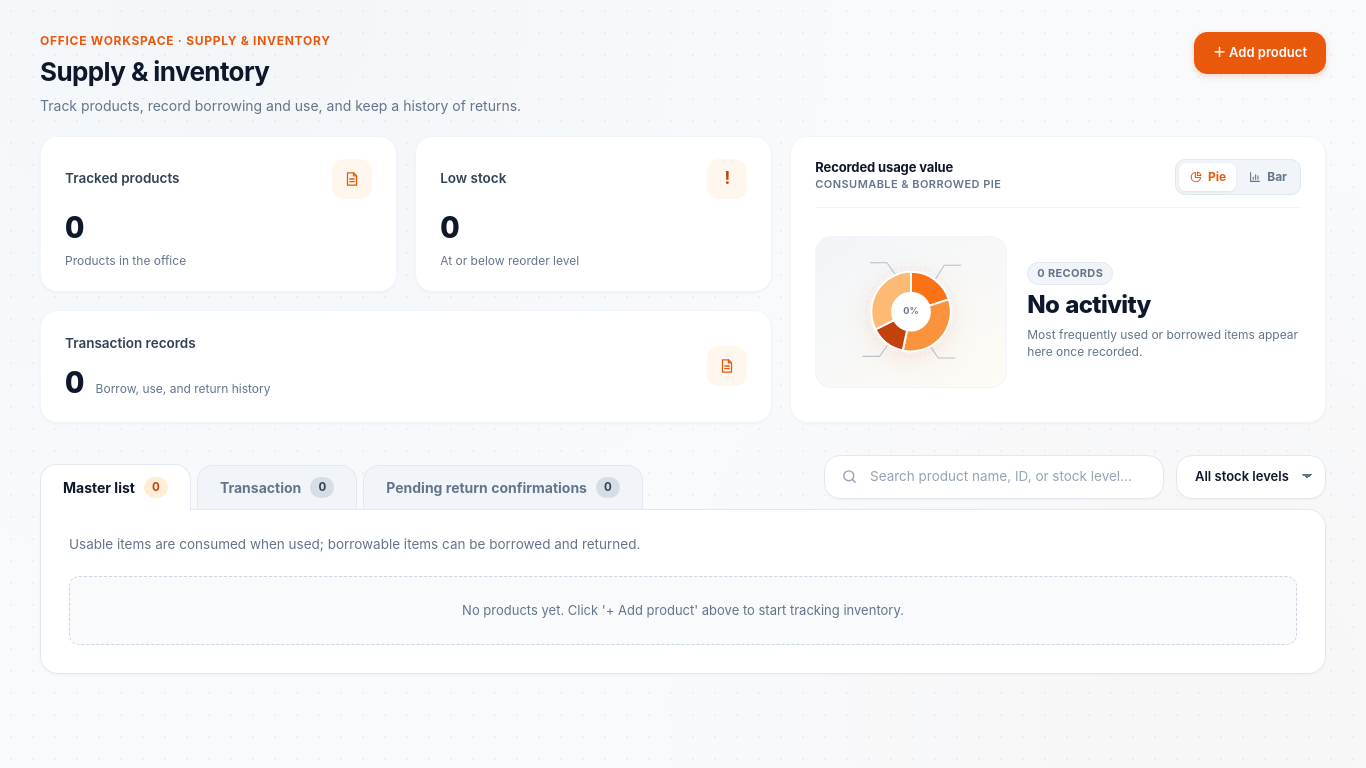
it: saves newly added masterlist items to Supabase
Click the button "＋ Add product" at (1260, 53), box top-left (1194, 32), bottom-right (1326, 74)
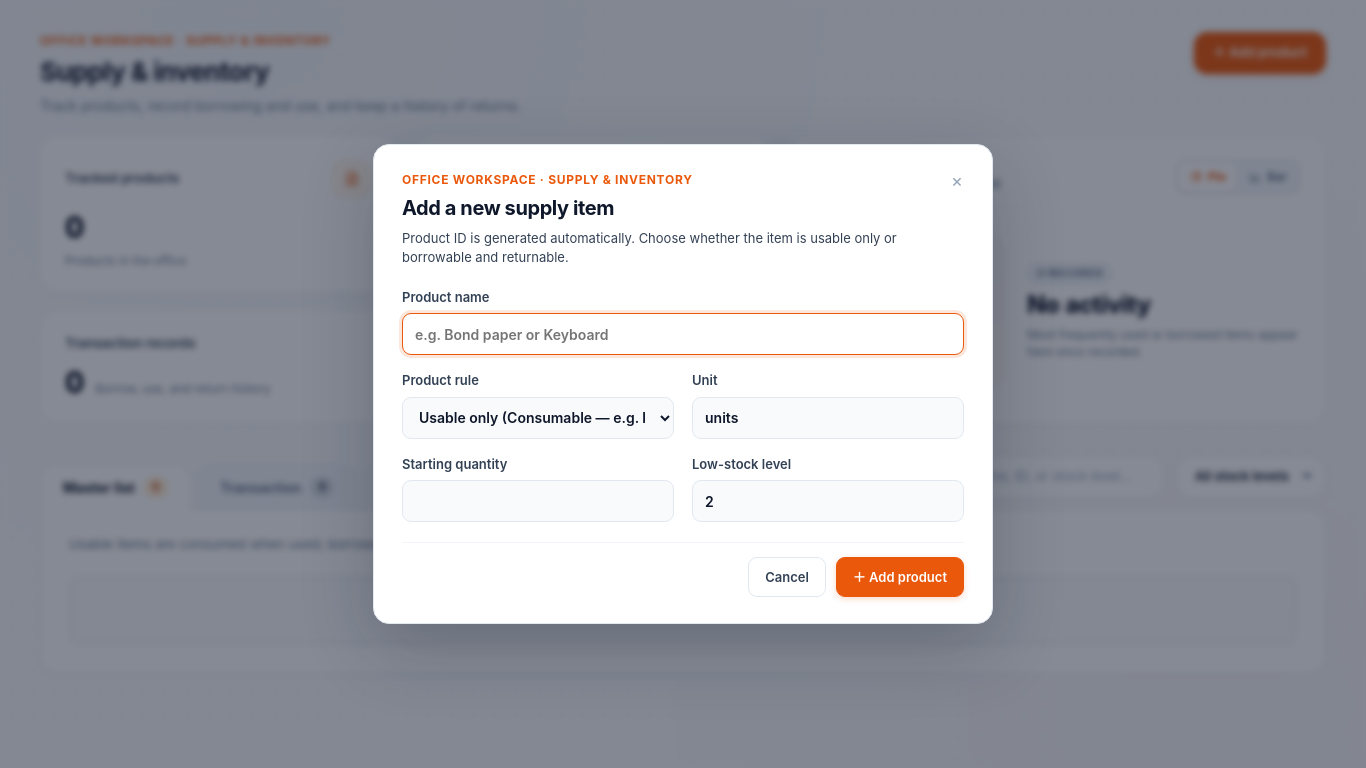
Type "Stapler" into the field labelled "Product name" at (683, 334), box top-left (402, 313), bottom-right (964, 355)
Select "Borrowable & returnable (Equipment — e.g. keyboard)" in the dropdown labelled "Product rule" at (538, 418), box top-left (402, 397), bottom-right (674, 439)
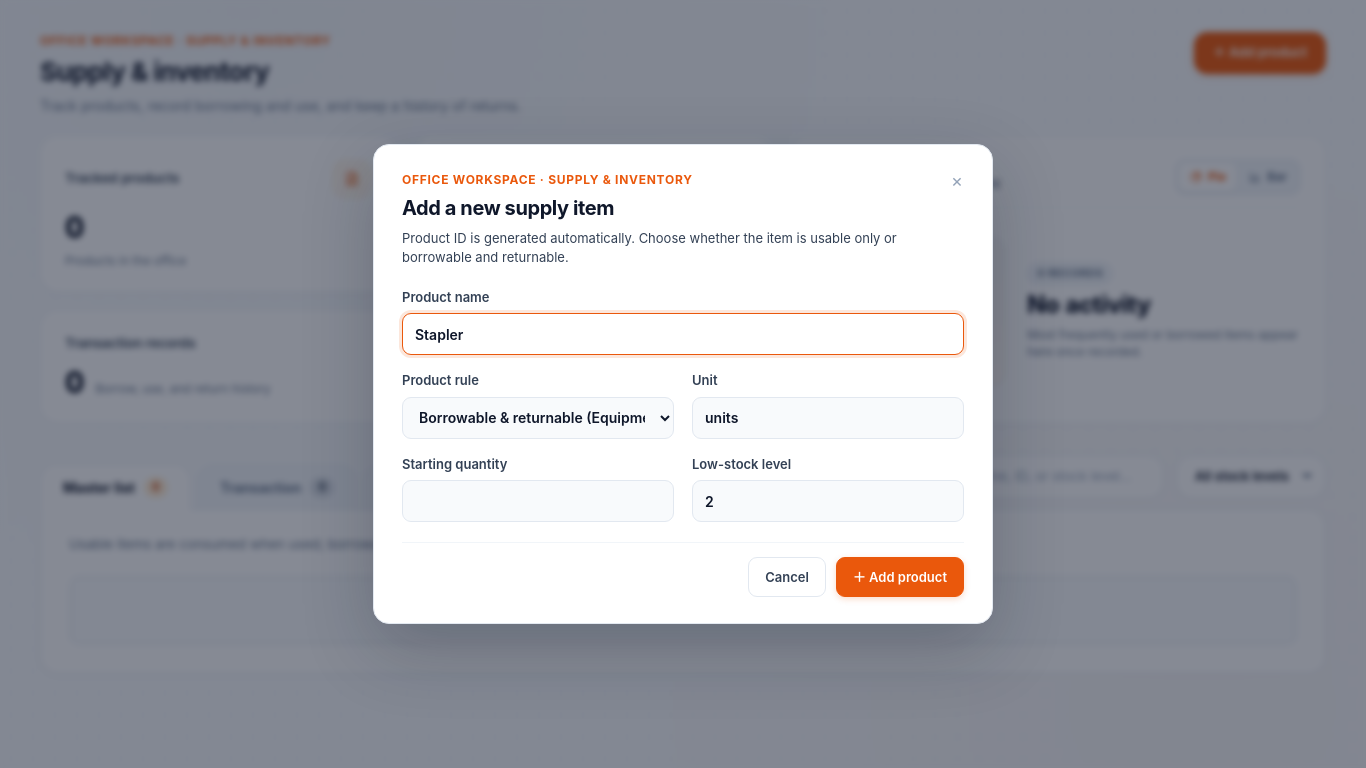
Replace the text in the field labelled "Unit" with "pieces" at (828, 418), box top-left (692, 397), bottom-right (964, 439)
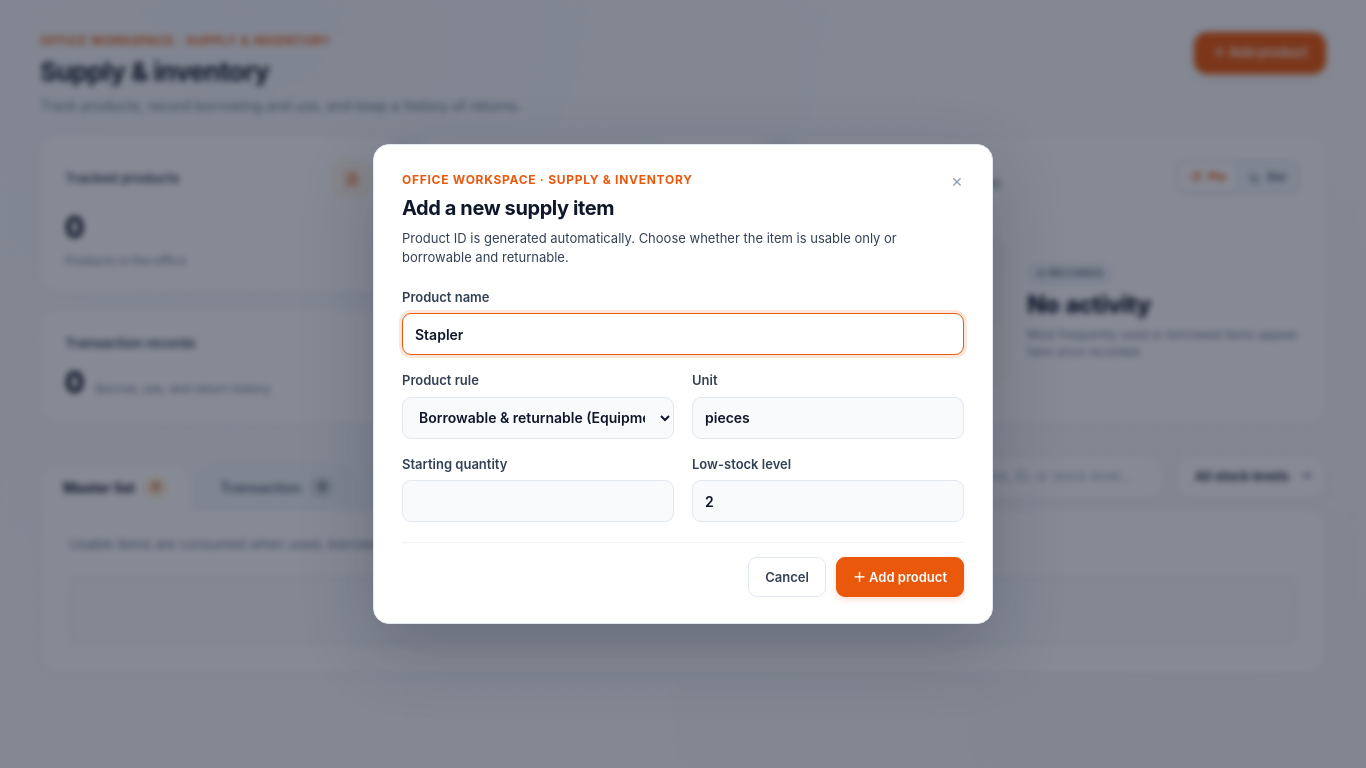
Type "3" into the number field labelled "Starting quantity" at (538, 501), box top-left (402, 480), bottom-right (674, 522)
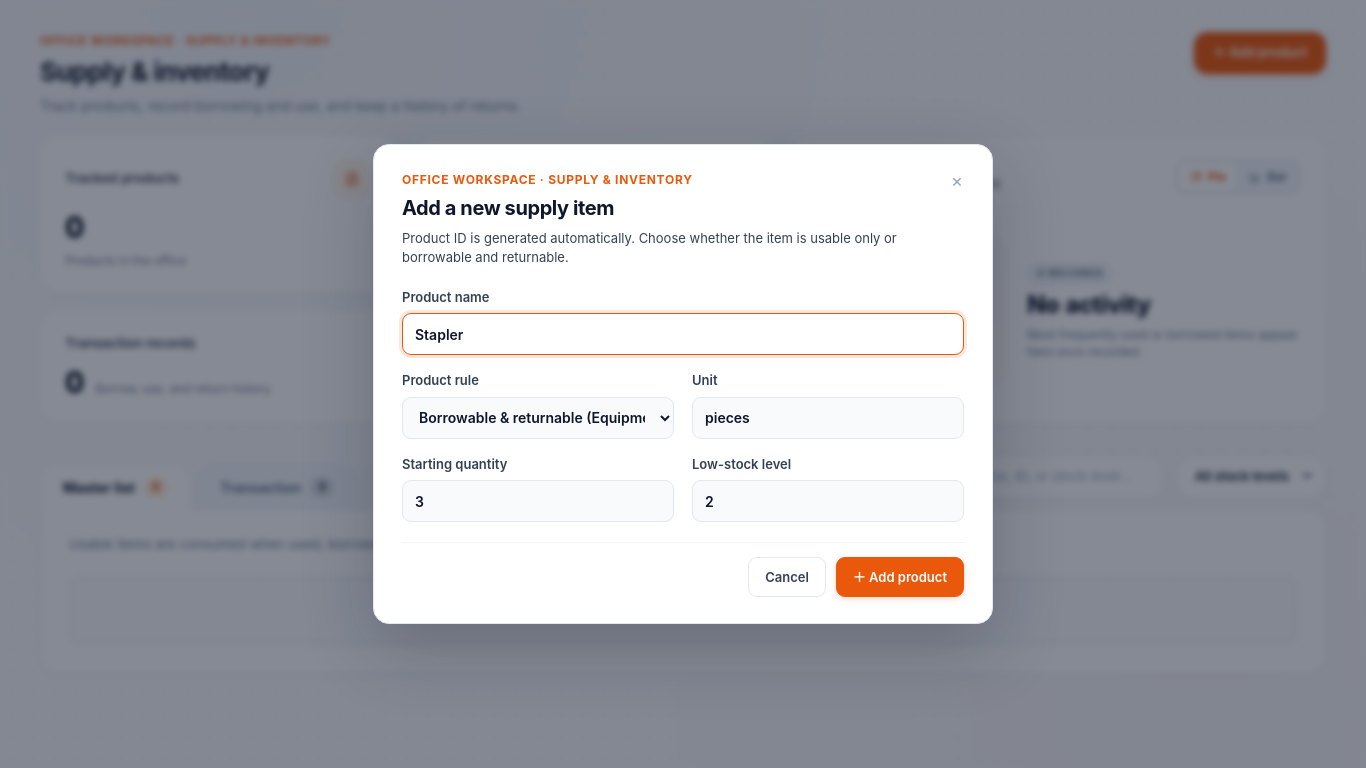
Replace the text in the number field labelled "Low-stock level" with "1" at (828, 501), box top-left (692, 480), bottom-right (964, 522)
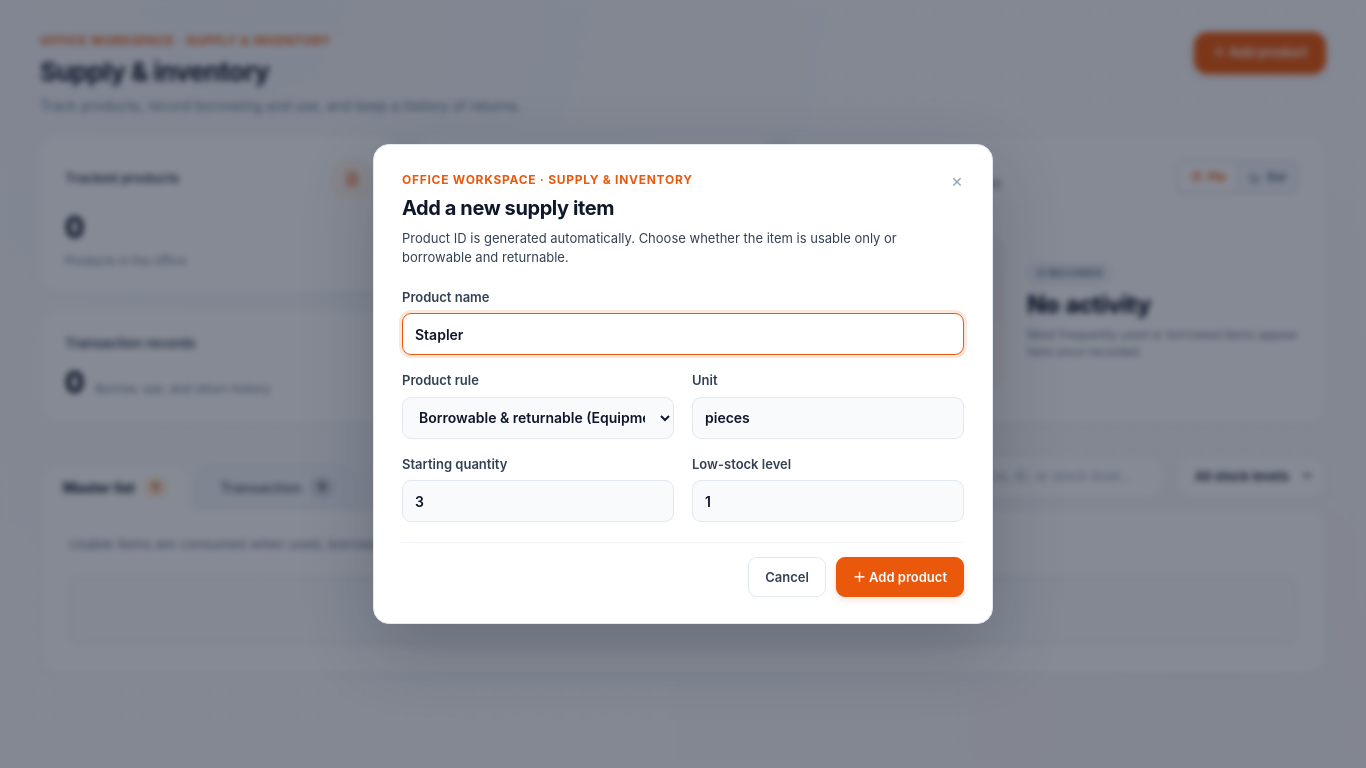
Click the button "＋ Add product" at (900, 577), box top-left (836, 557), bottom-right (964, 597)
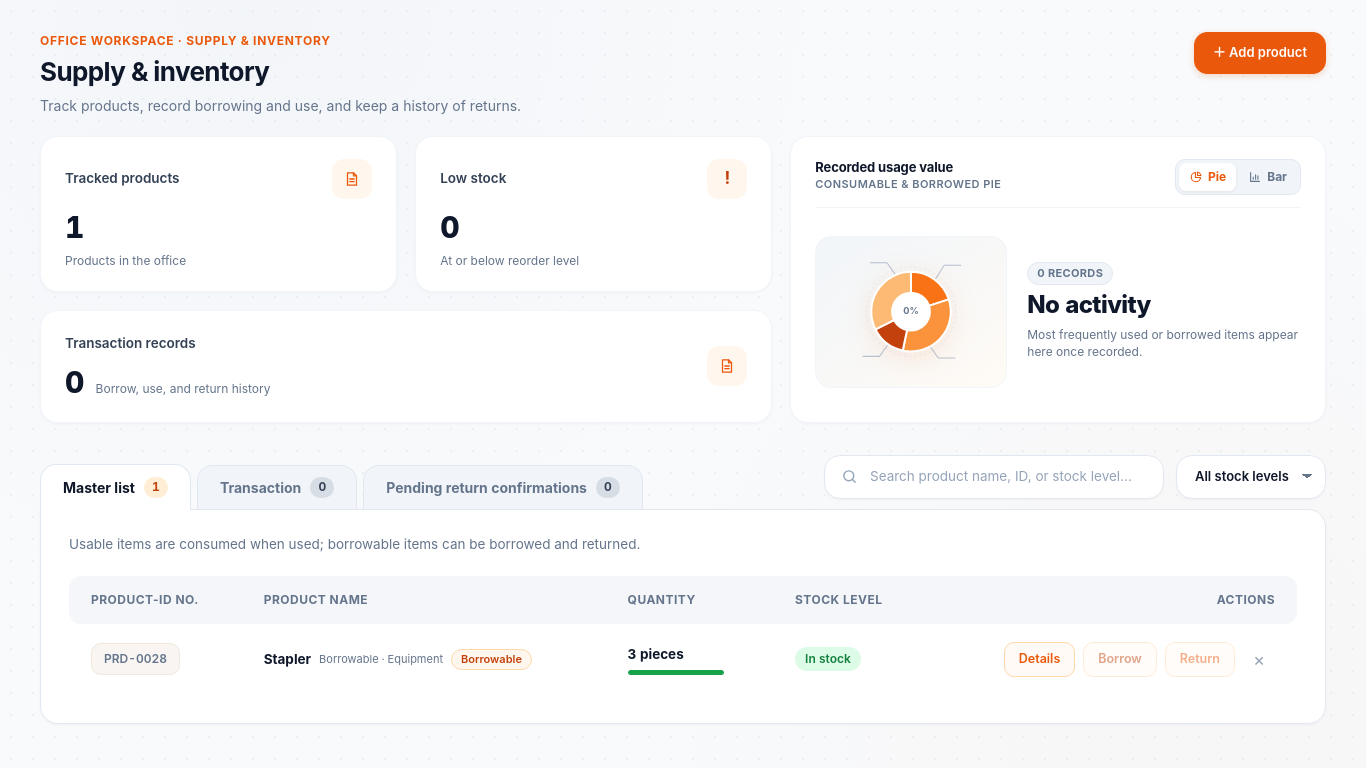
Now the text "Stapler" is shown, box top-left (264, 651), bottom-right (311, 667)
